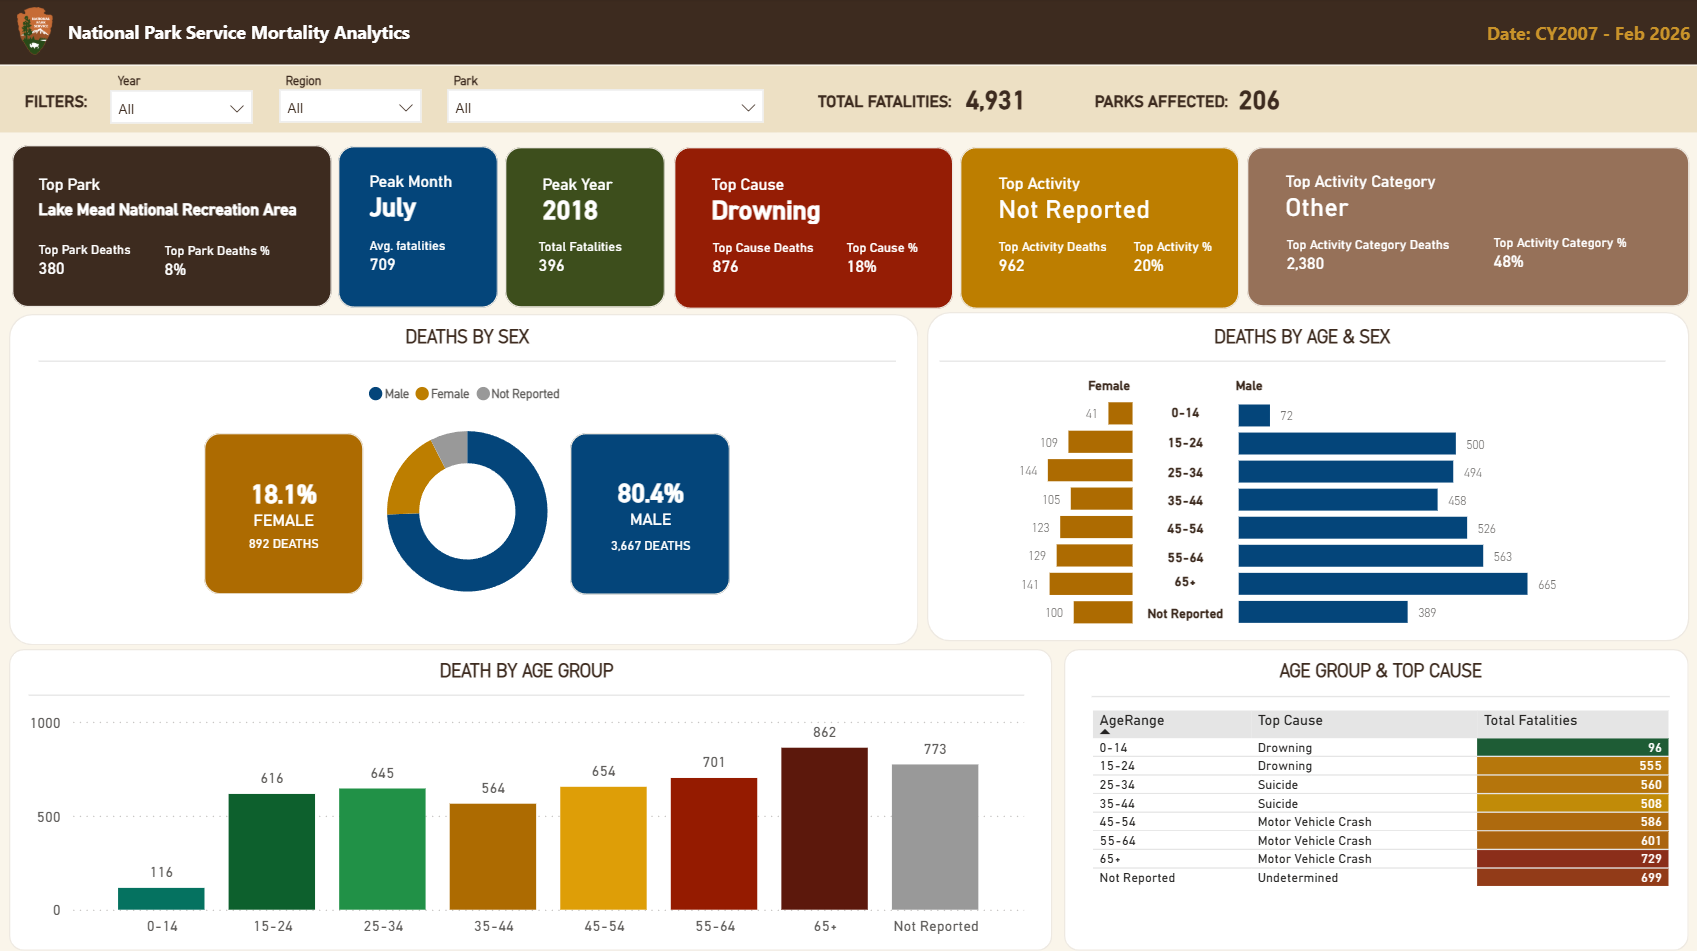

This screenshot's page, from the dashboard's own definition file:
{"tool":"powerbi","page":{"name":"Demographics","canvas":[1280,720],"ordinal":2},"visuals":[{"type":"shape","box":[697.1,236.4,573.6,247.9],"z":0},{"type":"clusteredBarChart","title":"DEATH BY CAUSE OF DEATH GROUP","fields":{"Category":["dim_demographic.AgeRange"],"Y":["dim_demographic.Male Deaths"]},"box":[860.2,284.2,338.4,199.6],"z":0,"group":"g1"},{"type":"donutChart","title":"DEATHS BY AGE & SEX","fields":{"Category":["dim_demographic.Sex"],"Y":["Sum(fact_incident.DeathCount)"]},"box":[701.9,246.6,555.6,218.8],"z":1000},{"type":"clusteredBarChart","title":"DEATH BY CAUSE OF DEATH GROUP","fields":{"Category":["dim_demographic.AgeRange"],"Y":["dim_demographic.Female Deaths Neg"]},"box":[761.7,290.9,95.7,184.8],"z":1000,"group":"g1"},{"type":"shape","box":[0,50.8,1280,50],"z":2000},{"type":"shape","box":[857.6,297.7,72.9,172.6],"z":2000,"group":"g1"},{"type":"shape","box":[0,0,1280,83.6],"z":3000},{"type":"textbox","box":[852,296.5,80.3,28.5],"z":3000,"group":"g1"},{"type":"shape","box":[0,0,1280.3,50],"z":4000},{"type":"textbox","box":[852,319,80.3,28.5],"z":4000,"group":"g1"},{"type":"image","box":[6.7,6.7,38.8,36.2],"z":5000},{"type":"textbox","box":[852,341.2,80.3,28.5],"z":5000,"group":"g1"},{"type":"textbox","box":[45.9,11.9,279.4,34.4],"z":6000},{"type":"textbox","box":[852,362.7,80.3,28.5],"z":6000,"group":"g1"},{"type":"textbox","box":[1113.6,12.6,165.5,44.4],"z":7000},{"type":"textbox","box":[852,383.1,80.3,28.5],"z":7000,"group":"g1"},{"type":"slicer","fields":{"Values":["dim_date.Year"]},"box":[73.3,59.2,126.7,50],"z":8000},{"type":"textbox","box":[852,405,80.3,28.5],"z":8000,"group":"g1"},{"type":"slicer","fields":{"Values":["dim_park.Region"]},"box":[200,58.3,126.7,50],"z":9000},{"type":"textbox","box":[852,423.3,80.3,28.5],"z":9000,"group":"g1"},{"type":"slicer","fields":{"Values":["dim_park.ParkName"]},"box":[326.7,58.7,258,50],"z":10000},{"type":"textbox","box":[852,447.2,80.3,28.5],"z":10000,"group":"g1"},{"type":"textbox","box":[13.2,63.5,60.1,37.2],"z":11000},{"type":"textbox","box":[795.2,275.9,80,28.8],"z":11000,"group":"g1"},{"type":"textbox","box":[83.4,46.4,60.4,34.2],"z":12000},{"type":"textbox","box":[900.5,275.9,80,28.8],"z":12000,"group":"g1"},{"type":"textbox","box":[209.6,46.4,60.4,34.2],"z":13000},{"type":"textbox","box":[336.3,46.4,77.7,34.2],"z":14000},{"type":"cardVisual","fields":{"Data":["Sum(fact_incident.DeathCount)"]},"box":[697.1,35.7,120,79.3],"z":15000},{"type":"cardVisual","fields":{"Data":["dim_park.Parks_Affected"]},"box":[902.9,35.7,149.3,79.3],"z":16000},{"type":"shape","box":[7.1,490,785,227.1],"z":17000},{"type":"shape","box":[800.7,490,470,227.1],"z":18000},{"type":"shape","box":[7.1,237.9,684.3,249.3],"z":19000},{"type":"columnChart","title":"DEATH BY AGE GROUP","fields":{"Y":["Sum(fact_incident.DeathCount)"],"Category":["dim_demographic.AgeRange"]},"box":[16.4,497.9,759.3,212.9],"z":20000},{"type":"donutChart","title":"DEATHS BY SEX","fields":{"Category":["dim_demographic.Sex"],"Y":["Sum(fact_incident.DeathCount)"]},"box":[24.3,247.1,655,218.6],"z":21000},{"type":"textbox","box":[610,63.6,122.9,37.1],"z":22000},{"type":"textbox","box":[818.6,63.6,126.4,37.1],"z":23000},{"type":"tableEx","title":"AGE GROUP & TOP CAUSE","fields":{"Values":["dim_demographic.AgeRange","fact_incident.Top Cause","fact_incident.Total Fatalities"]},"box":[816.4,497.9,445,212.9],"z":24000},{"type":"shape","box":[254.4,111.1,120.5,121.8],"z":25000},{"type":"shape","box":[379.8,112.4,120.5,120.8],"z":26000},{"type":"shape","box":[506.8,112.5,210.2,121.8],"z":27000},{"type":"shape","box":[9.1,110.9,240.6,122.1],"z":28000},{"type":"cardVisual","fields":{"Data":["fact_incident.Peak Year"]},"box":[379.3,112.2,121.3,79.9],"z":29000},{"type":"cardVisual","fields":{"Data":["fact_incident.Peak Month"]},"box":[249.2,110,126.2,79.2],"z":30000},{"type":"cardVisual","fields":{"Data":["fact_incident.Top Cause"]},"box":[506.7,112.2,144.5,79.3],"z":31000},{"type":"cardVisual","fields":{"Data":["fact_incident.Top Cause Deaths"]},"box":[506.8,154.9,155.7,79.3],"z":32000},{"type":"cardVisual","fields":{"Data":["fact_incident.Top Cause %"]},"box":[608.3,154.9,155.7,79.3],"z":33000},{"type":"cardVisual","fields":{"Data":["fact_incident.Peak Month Avg Fatalities"]},"box":[248.8,153.8,155.5,79.5],"z":34000},{"type":"cardVisual","fields":{"Data":["fact_incident.Peak Year Fatalities"]},"box":[375.9,154.4,193.2,79.2],"z":35000},{"type":"cardVisual","fields":{"Data":["dim_park.Top Park Deaths %"]},"box":[95.1,157.3,155.5,79.3],"z":36000},{"type":"cardVisual","fields":{"Data":["dim_park.Top Park Name"]},"box":[0,111,275.6,76.2],"z":37000},{"type":"cardVisual","fields":{"Data":["dim_park.Top Park Deaths"]},"box":[0,156.7,156.1,79.3],"z":38000},{"type":"shape","box":[722.5,111.7,210.2,121.8],"z":39000},{"type":"cardVisual","fields":{"Data":["dim_activity.Top Activity"]},"box":[722.1,111.4,188.6,79.3],"z":40000},{"type":"cardVisual","fields":{"Data":["dim_activity.Top Activity Fatalities"]},"box":[722.5,154.2,155.7,79.3],"z":41000},{"type":"cardVisual","fields":{"Data":["dim_activity.Top Activity %"]},"box":[824,154.2,155.7,79.3],"z":42000},{"type":"shape","box":[937.9,112.1,332.9,120],"z":43000},{"type":"cardVisual","fields":{"Data":["dim_activity.Top Activity Category"]},"box":[937.9,110,247.9,79.3],"z":44000},{"type":"cardVisual","fields":{"Data":["dim_activity.Top Activity Category Fatalities"]},"box":[938.6,152.9,195,79.3],"z":45000},{"type":"cardVisual","fields":{"Data":["dim_activity.Top Activity Category %"]},"box":[1095,151.4,175,79.3],"z":46000},{"type":"shape","box":[429,327.4,120.5,121.8],"z":48000},{"type":"cardVisual","fields":{"Data":["dim_demographic.Male % of Known"]},"box":[429.2,326.2,120.8,107.7],"z":49000},{"type":"cardVisual","fields":{"Data":["dim_demographic.Male Deaths"]},"box":[429.2,370,120.8,80],"z":50000},{"type":"shape","box":[153.6,327.1,120,121.4],"z":51000},{"type":"cardVisual","fields":{"Data":["dim_demographic.Female Deaths %"]},"box":[153.8,326.9,120,106.9],"z":52000},{"type":"cardVisual","fields":{"Data":["dim_demographic.Female Deaths"]},"box":[153.8,370,120,79.2],"z":53000},{"type":"group","id":"g1","title":"Group 1","box":[761.7,275.9,436.9,207.9],"z":53012}]}

Visuals, with their boxes in screenshot pixels (x1, y1, x2, y2), scaled from the page's 1280x720 canvas onto the 1697x951 screenshot:
shape: x1=924, y1=312, x2=1685, y2=640
"DEATH BY CAUSE OF DEATH GROUP" clusteredBarChart: x1=1140, y1=375, x2=1589, y2=639
"DEATHS BY AGE & SEX" donutChart: x1=931, y1=326, x2=1667, y2=615
"DEATH BY CAUSE OF DEATH GROUP" clusteredBarChart: x1=1010, y1=384, x2=1137, y2=628
shape: x1=0, y1=67, x2=1696, y2=133
shape: x1=1137, y1=393, x2=1234, y2=621
shape: x1=0, y1=0, x2=1696, y2=110
textbox: x1=1130, y1=392, x2=1236, y2=429
shape: x1=0, y1=0, x2=1696, y2=66
textbox: x1=1130, y1=421, x2=1236, y2=459
image: x1=9, y1=9, x2=60, y2=57
textbox: x1=1130, y1=451, x2=1236, y2=488
textbox: x1=61, y1=16, x2=431, y2=61
textbox: x1=1130, y1=479, x2=1236, y2=517
textbox: x1=1476, y1=17, x2=1696, y2=75
textbox: x1=1130, y1=506, x2=1236, y2=544
slicer - dim_date.Year: x1=97, y1=78, x2=265, y2=144
textbox: x1=1130, y1=535, x2=1236, y2=573
slicer - dim_park.Region: x1=265, y1=77, x2=433, y2=143
textbox: x1=1130, y1=559, x2=1236, y2=597
slicer - dim_park.ParkName: x1=433, y1=78, x2=775, y2=144
textbox: x1=1130, y1=591, x2=1236, y2=628
textbox: x1=18, y1=84, x2=97, y2=133
textbox: x1=1054, y1=364, x2=1160, y2=402
textbox: x1=111, y1=61, x2=191, y2=106
textbox: x1=1194, y1=364, x2=1300, y2=402
textbox: x1=278, y1=61, x2=358, y2=106
textbox: x1=446, y1=61, x2=549, y2=106
cardVisual - Sum(fact_incident.DeathCount): x1=924, y1=47, x2=1083, y2=152
cardVisual - dim_park.Parks_Affected: x1=1197, y1=47, x2=1395, y2=152
shape: x1=9, y1=647, x2=1050, y2=947
shape: x1=1062, y1=647, x2=1685, y2=947
shape: x1=9, y1=314, x2=917, y2=644
"DEATH BY AGE GROUP" columnChart: x1=22, y1=658, x2=1028, y2=939
"DEATHS BY SEX" donutChart: x1=32, y1=326, x2=901, y2=615
textbox: x1=809, y1=84, x2=972, y2=133
textbox: x1=1085, y1=84, x2=1253, y2=133
"AGE GROUP & TOP CAUSE" tableEx: x1=1082, y1=658, x2=1672, y2=939
shape: x1=337, y1=147, x2=497, y2=308
shape: x1=504, y1=148, x2=663, y2=308
shape: x1=672, y1=149, x2=951, y2=309
shape: x1=12, y1=146, x2=331, y2=308
cardVisual - fact_incident.Peak Year: x1=503, y1=148, x2=664, y2=254
cardVisual - fact_incident.Peak Month: x1=330, y1=145, x2=498, y2=250
cardVisual - fact_incident.Top Cause: x1=672, y1=148, x2=863, y2=253
cardVisual - fact_incident.Top Cause Deaths: x1=672, y1=205, x2=878, y2=309
cardVisual - fact_incident.Top Cause %: x1=806, y1=205, x2=1013, y2=309
cardVisual - fact_incident.Peak Month Avg Fatalities: x1=330, y1=203, x2=536, y2=308
cardVisual - fact_incident.Peak Year Fatalities: x1=498, y1=204, x2=755, y2=309
cardVisual - dim_park.Top Park Deaths %: x1=126, y1=208, x2=332, y2=313
cardVisual - dim_park.Top Park Name: x1=0, y1=147, x2=365, y2=247
cardVisual - dim_park.Top Park Deaths: x1=0, y1=207, x2=207, y2=312
shape: x1=958, y1=148, x2=1237, y2=308
cardVisual - dim_activity.Top Activity: x1=957, y1=147, x2=1207, y2=252
cardVisual - dim_activity.Top Activity Fatalities: x1=958, y1=204, x2=1164, y2=308
cardVisual - dim_activity.Top Activity %: x1=1092, y1=204, x2=1299, y2=308
shape: x1=1243, y1=148, x2=1685, y2=307
cardVisual - dim_activity.Top Activity Category: x1=1243, y1=145, x2=1572, y2=250
cardVisual - dim_activity.Top Activity Category Fatalities: x1=1244, y1=202, x2=1503, y2=307
cardVisual - dim_activity.Top Activity Category %: x1=1452, y1=200, x2=1684, y2=305
shape: x1=569, y1=432, x2=729, y2=593
cardVisual - dim_demographic.Male % of Known: x1=569, y1=431, x2=729, y2=573
cardVisual - dim_demographic.Male Deaths: x1=569, y1=489, x2=729, y2=594
shape: x1=204, y1=432, x2=363, y2=592
cardVisual - dim_demographic.Female Deaths %: x1=204, y1=432, x2=363, y2=573
cardVisual - dim_demographic.Female Deaths: x1=204, y1=489, x2=363, y2=593
"Group 1" group: x1=1010, y1=364, x2=1589, y2=639
